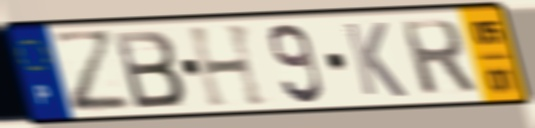9: (268, 21, 325, 104)
B: (109, 27, 188, 111)
H: (184, 21, 271, 110)
K: (340, 20, 410, 100)
R: (397, 16, 481, 98)
Z: (46, 28, 137, 116)
